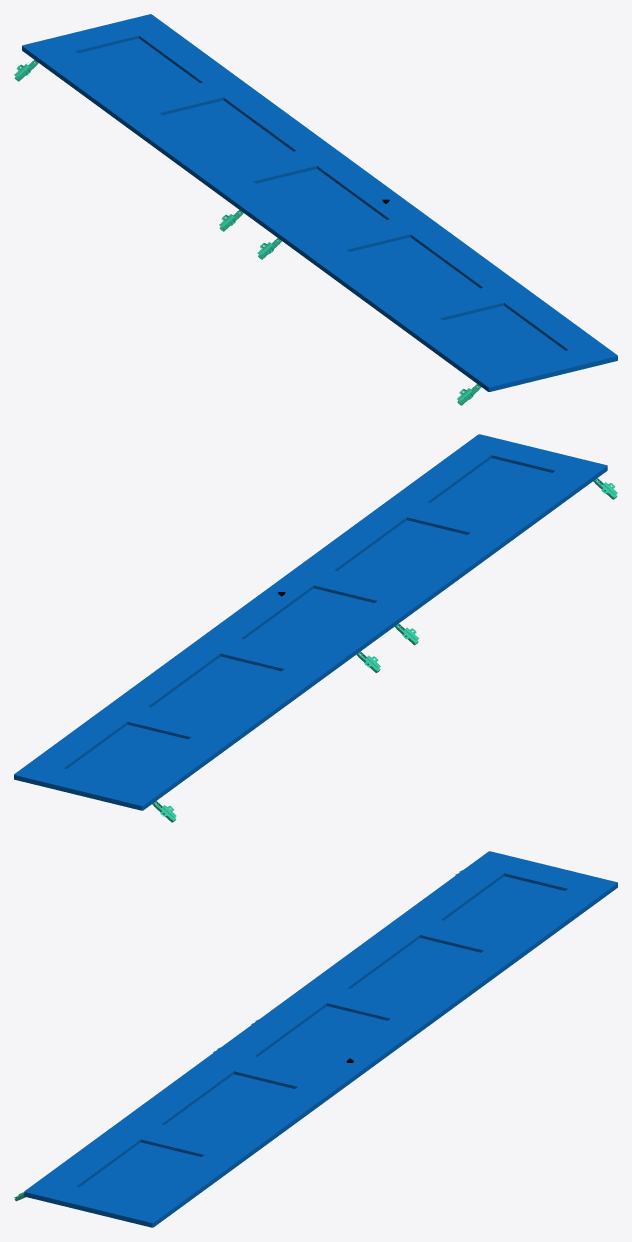
Rendered from dver_3_4.glb.
3 renders of one model, top to bottom at view 1: azimuth 30°, elevation 25°; view 2: azimuth 150°, elevation 25°; view 3: azimuth 330°, elevation 25°, orthographic.
Visible parts, largest first — view 1: Box005; view 2: Box005; view 3: Box005.
Part boxes in pixels (left/top/right/bottom): Box005: left=22, top=14, right=617, bottom=391; Box005: left=14, top=434, right=607, bottom=810; Box005: left=24, top=851, right=617, bottom=1227.
Bounding box in the file's own units: 42.48 × 6.31 × 231.
